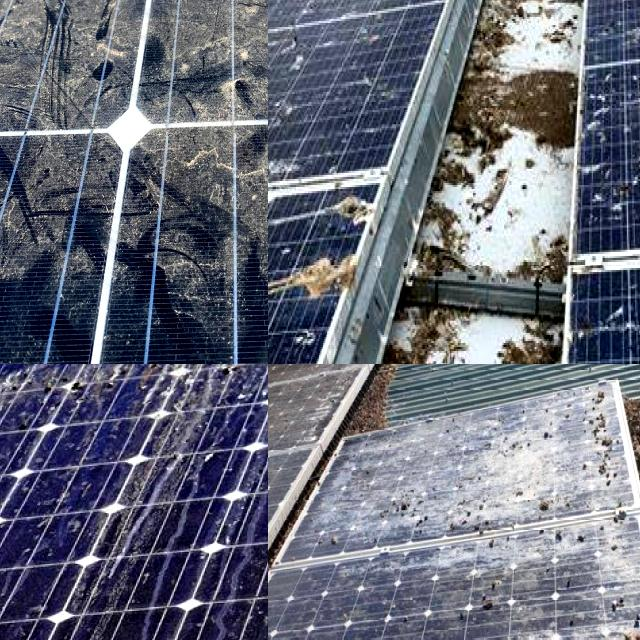bird: (580, 407, 636, 532), (268, 254, 375, 302), (36, 367, 130, 419), (282, 188, 393, 232), (174, 364, 268, 408), (540, 468, 576, 554), (464, 546, 501, 629), (0, 379, 43, 437), (282, 323, 318, 361), (268, 186, 291, 236), (380, 0, 438, 16), (622, 72, 640, 115)
dust: (139, 129, 268, 364), (0, 140, 85, 364), (149, 0, 268, 141), (0, 0, 128, 128), (0, 0, 137, 61), (172, 0, 268, 58), (0, 0, 268, 9), (0, 0, 23, 63)
